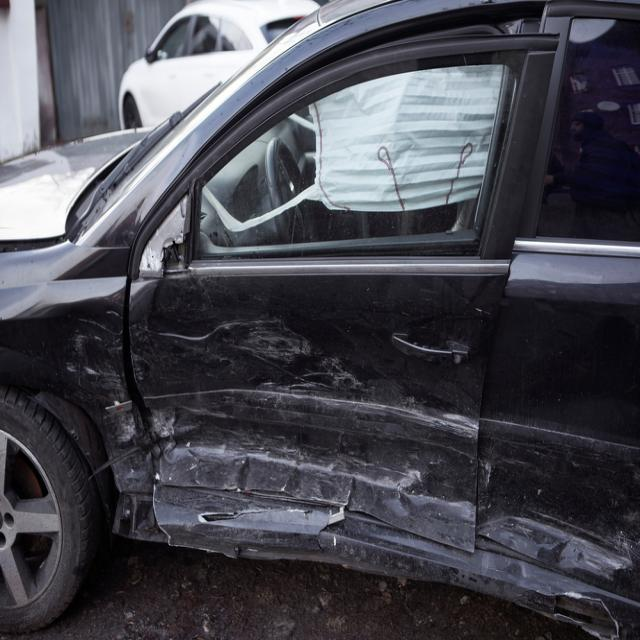crack: (553, 593, 620, 640)
dent: (150, 316, 479, 552), (482, 460, 638, 589)
scratch: (64, 308, 124, 397)
